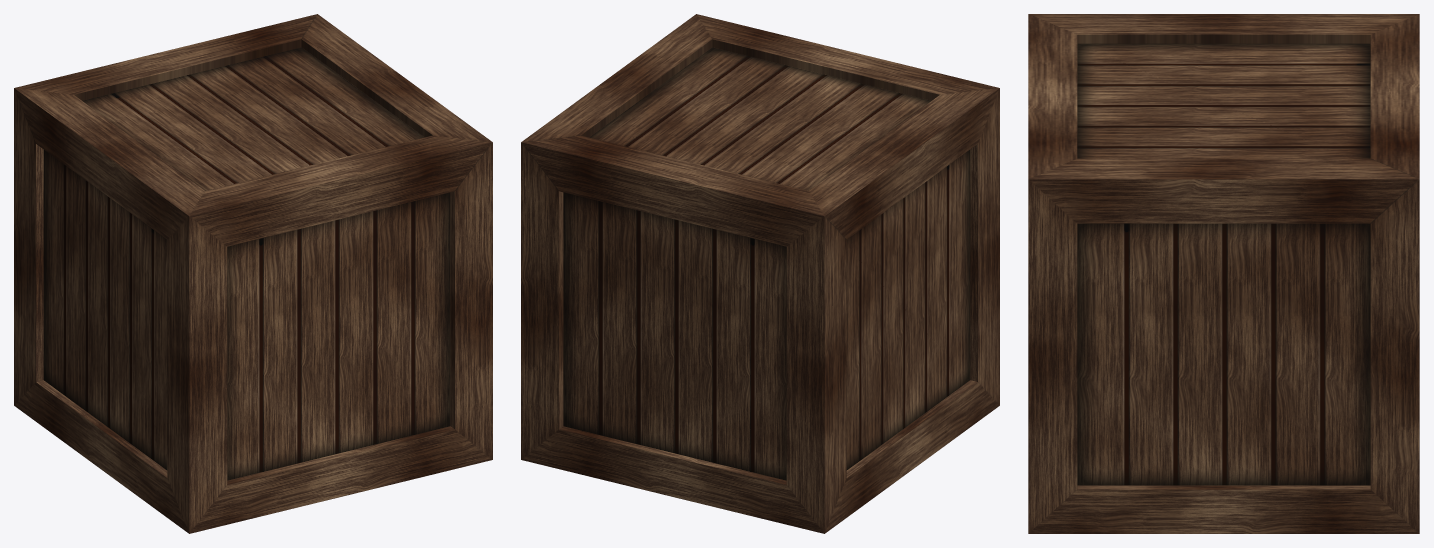
The model's file is Crate.fbx.
3 views of the same model, side by side, from view 1: azimuth 30°, elevation 25°; view 2: azimuth 150°, elevation 25°; view 3: azimuth 270°, elevation 25° (orthographic). The views are drawn at different scales.
Parts seen in each view (by area): view 1: Cube; view 2: Cube; view 3: Cube.
Boxes of the visible parts, bbox=[...] form: Cube: bbox=[14, 14, 492, 533]; Cube: bbox=[521, 14, 999, 533]; Cube: bbox=[1028, 14, 1419, 533].
Bounding box in the file's own units: 200 × 200 × 200.
